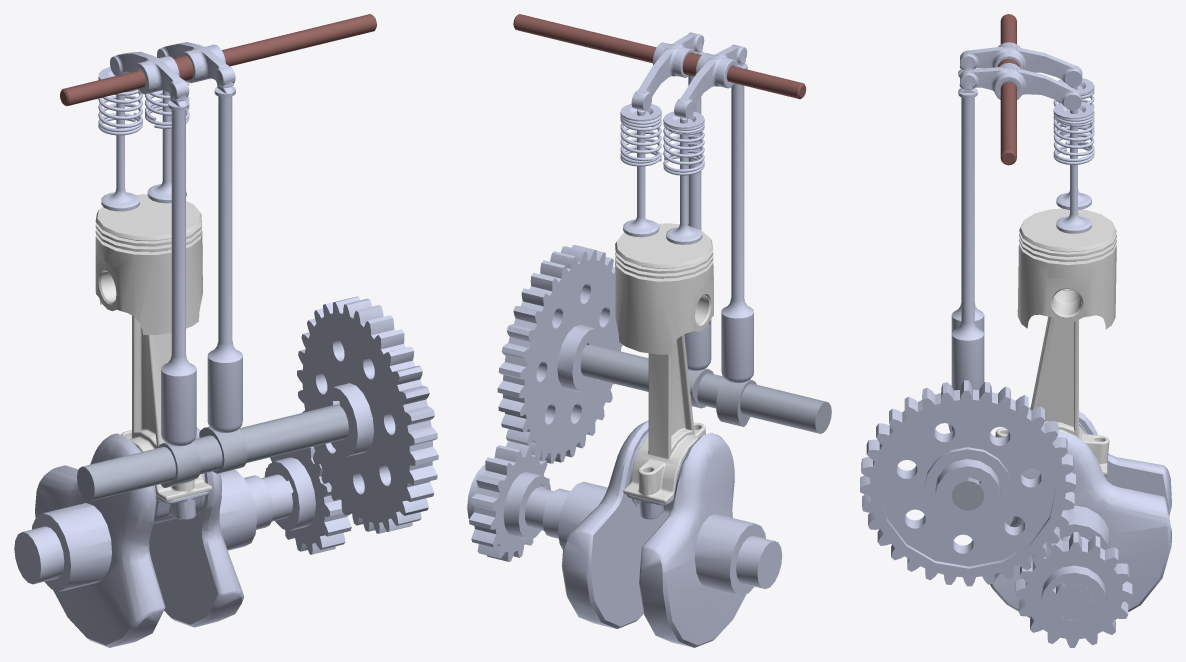
The model's file is assembly.glb.
3 renders of one model, left to right at view 1: azimuth 30°, elevation 25°; view 2: azimuth 150°, elevation 25°; view 3: azimuth 270°, elevation 25°, orthographic. The views are drawn at different scales.
Parts seen in each view (by area): view 1: main; view 2: main; view 3: main.
Part boxes in pixels (bbox=[...]): main: bbox=[14, 14, 438, 647]; main: bbox=[467, 14, 831, 647]; main: bbox=[860, 14, 1171, 647].
Bounding box in the file's own units: 0.2 × 0.3693 × 0.1911.
